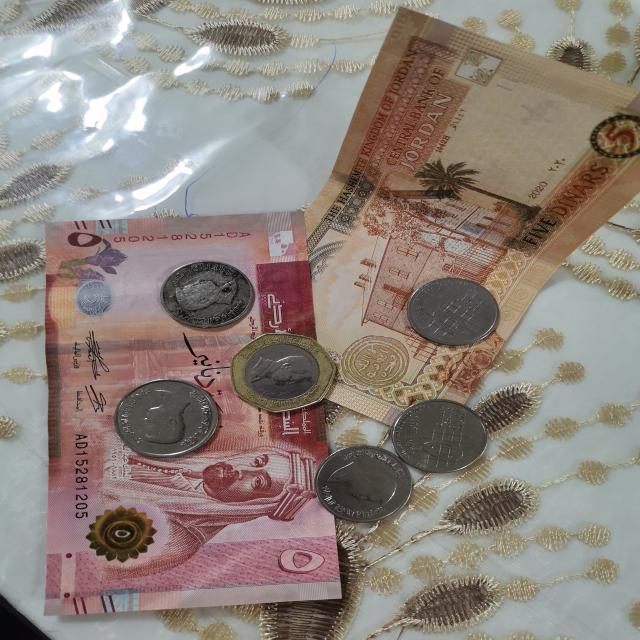10-coins: (110, 374, 224, 462)
5-coins: (315, 442, 420, 521), (391, 398, 492, 475), (158, 260, 259, 332), (407, 276, 502, 348)
5-dinar: (252, 0, 636, 436), (41, 210, 350, 615)
50-coins: (228, 331, 344, 414)
